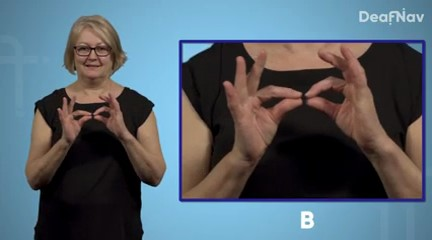B: (55, 86, 134, 149)
